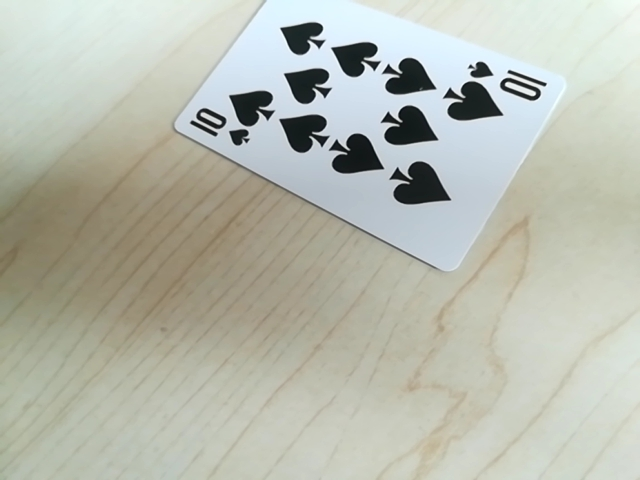ht 10: (460, 58, 555, 101), (181, 107, 256, 151)
